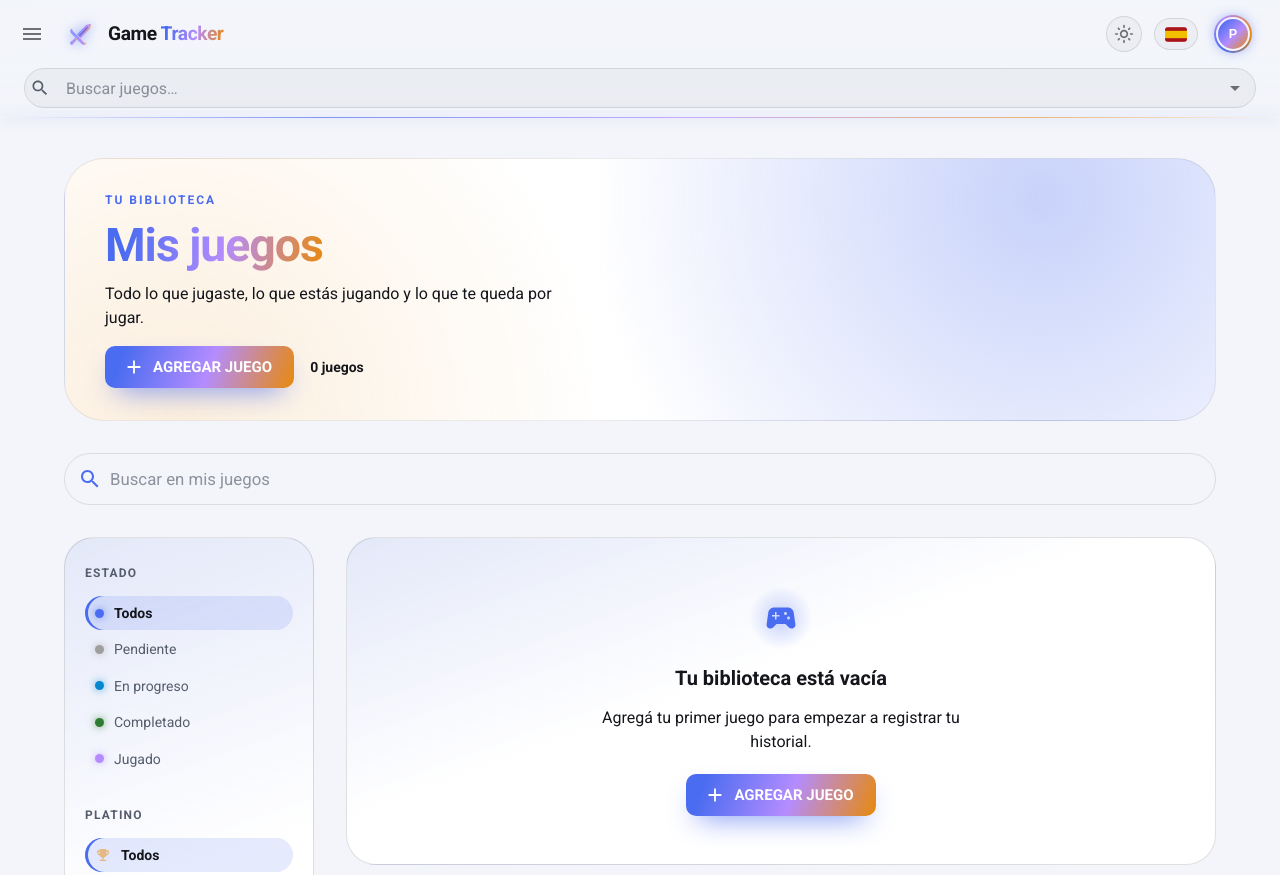
library › adding a game › warns when the external catalog is unavailable
The width and height of the screenshot is (1280, 875).
Click the button "Agregar juego" next to "0 juegos": (200, 367) [105,346,294,388]
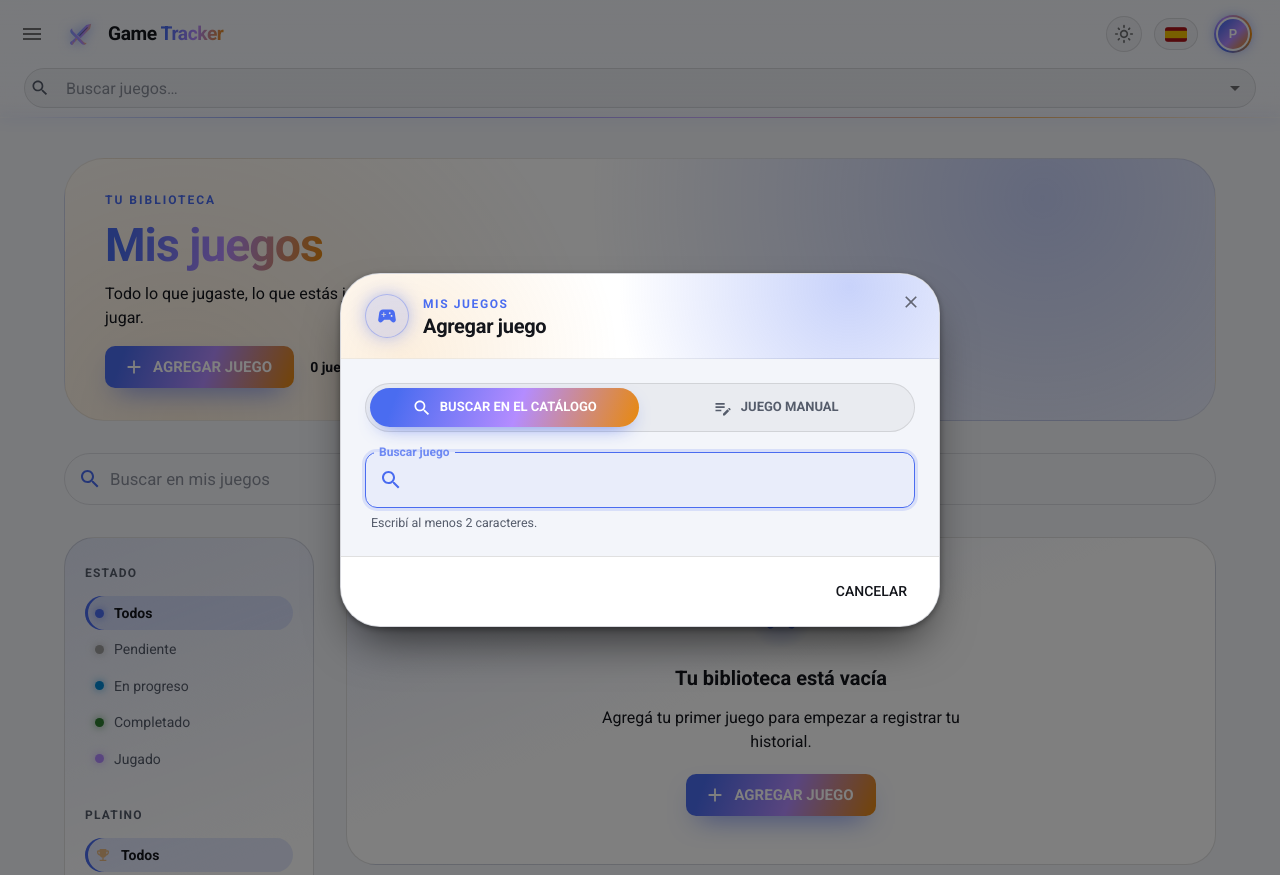
In the search field labelled "Buscar juego": (663, 480) [411,452,915,508], type "zelda"
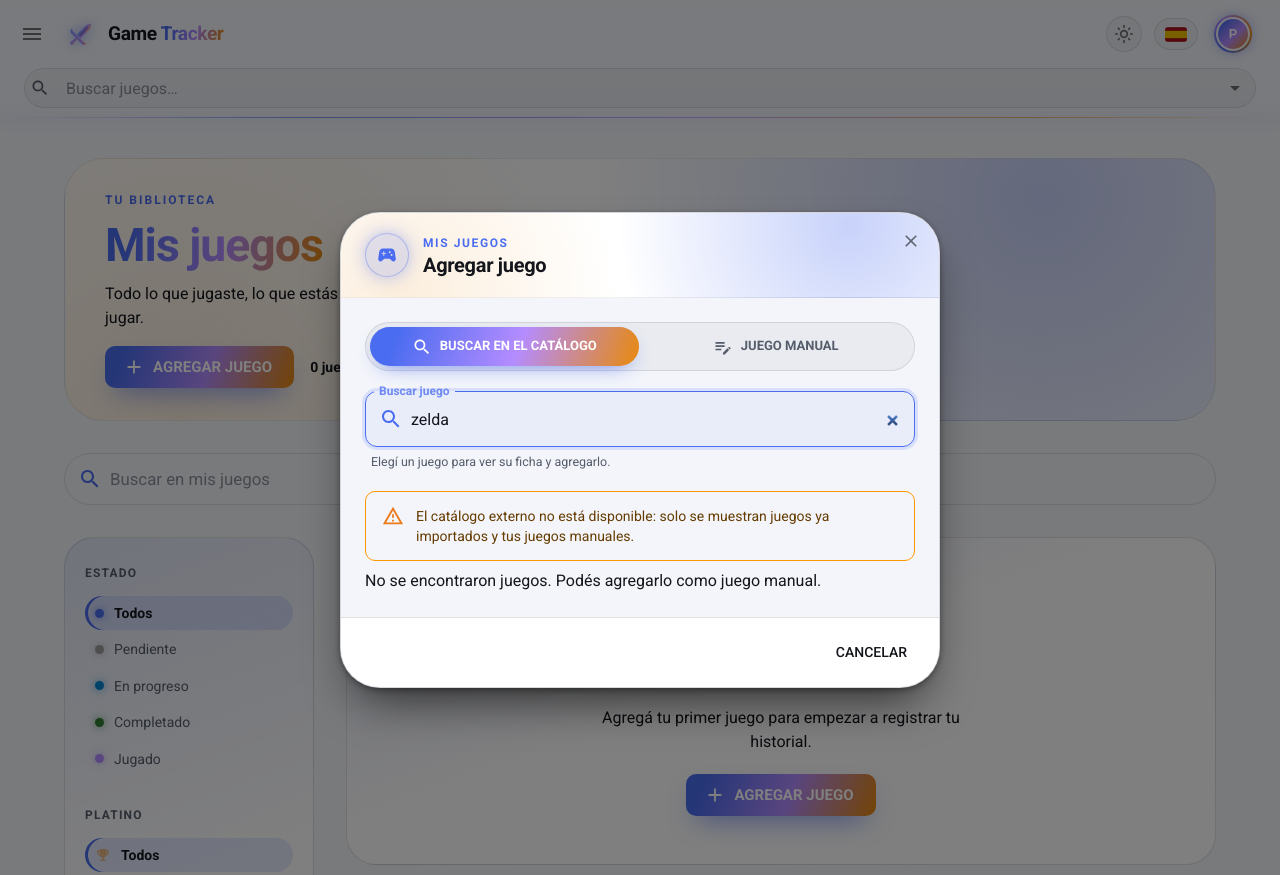
Now the text "El catálogo externo no está disponible" is shown, box [416,508,829,544]
